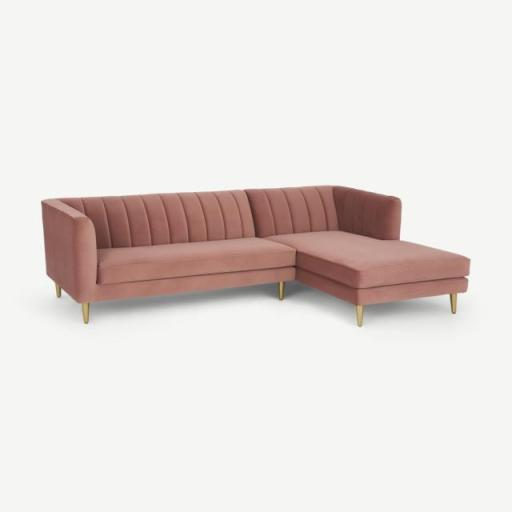sofa: (34, 144, 484, 370)
